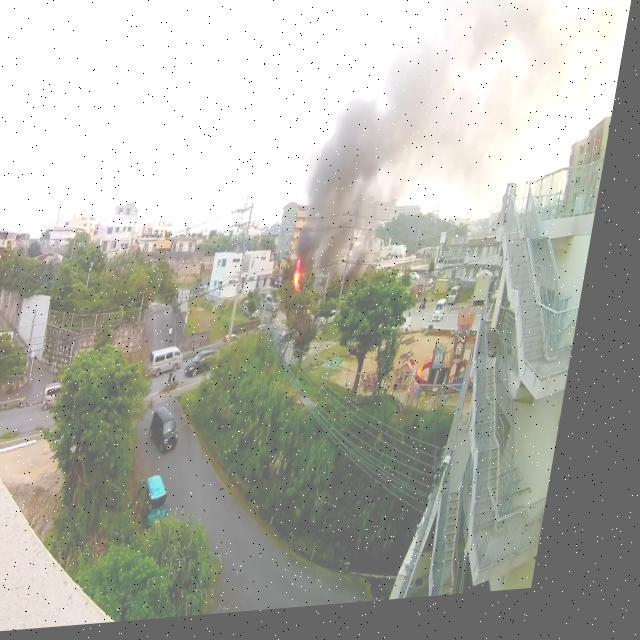Fire: (300, 264, 319, 300)
